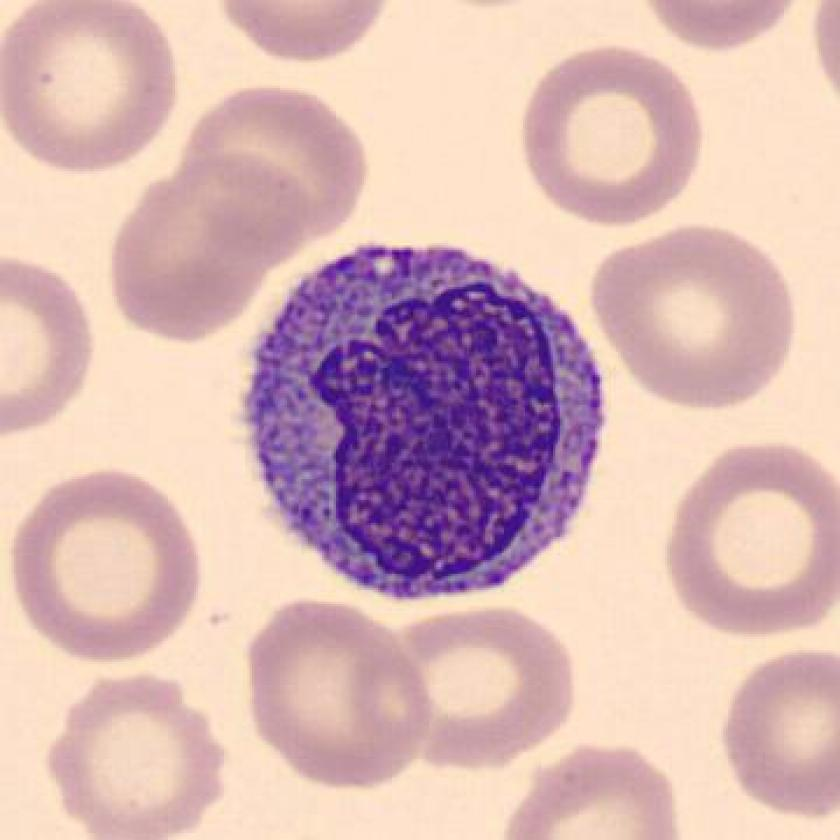monocyte: (223, 223, 622, 617)
